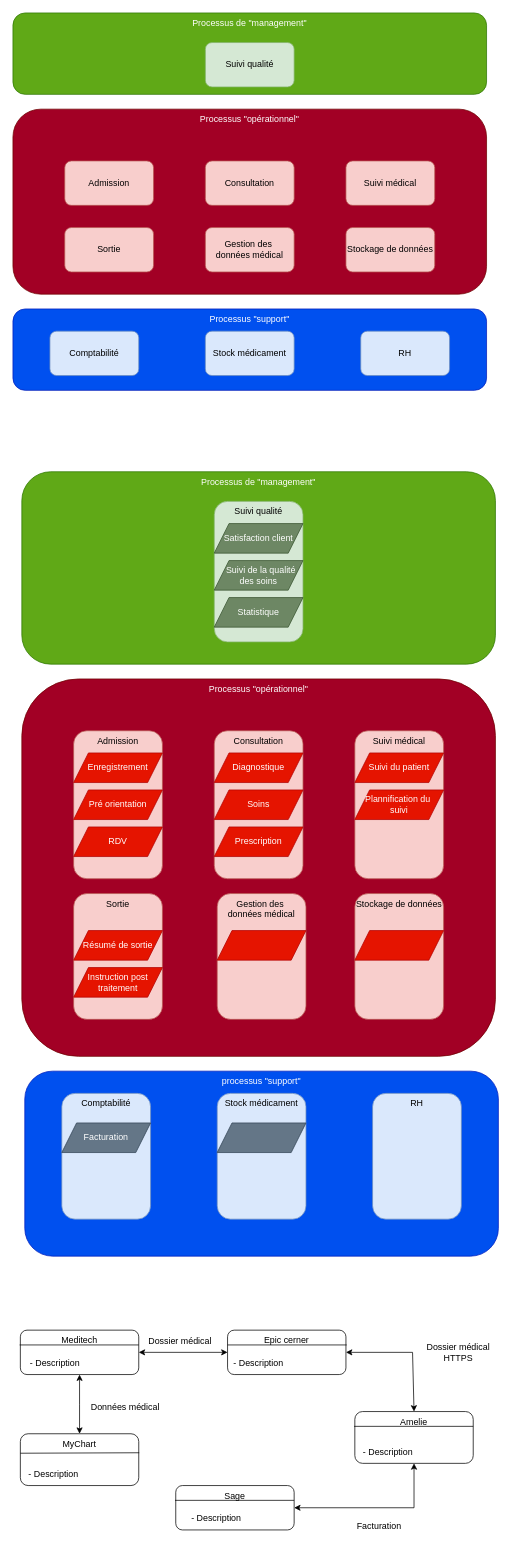
Some shapes in this 511 by 1550 pixel diagram are drawn without their labels. Here are the shapes that lost their labels. From the top down, the centre of each, then its label:
(261,945): MAJ historique médical
(399,945): Sécuriser
(261,1137): Suivi des stocks
